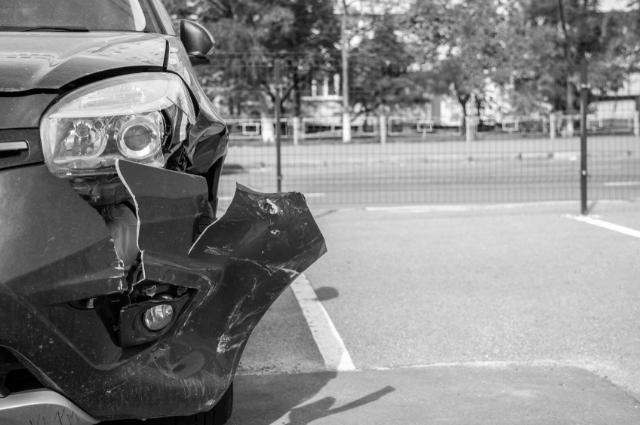Bumper: (1, 162, 332, 425)
